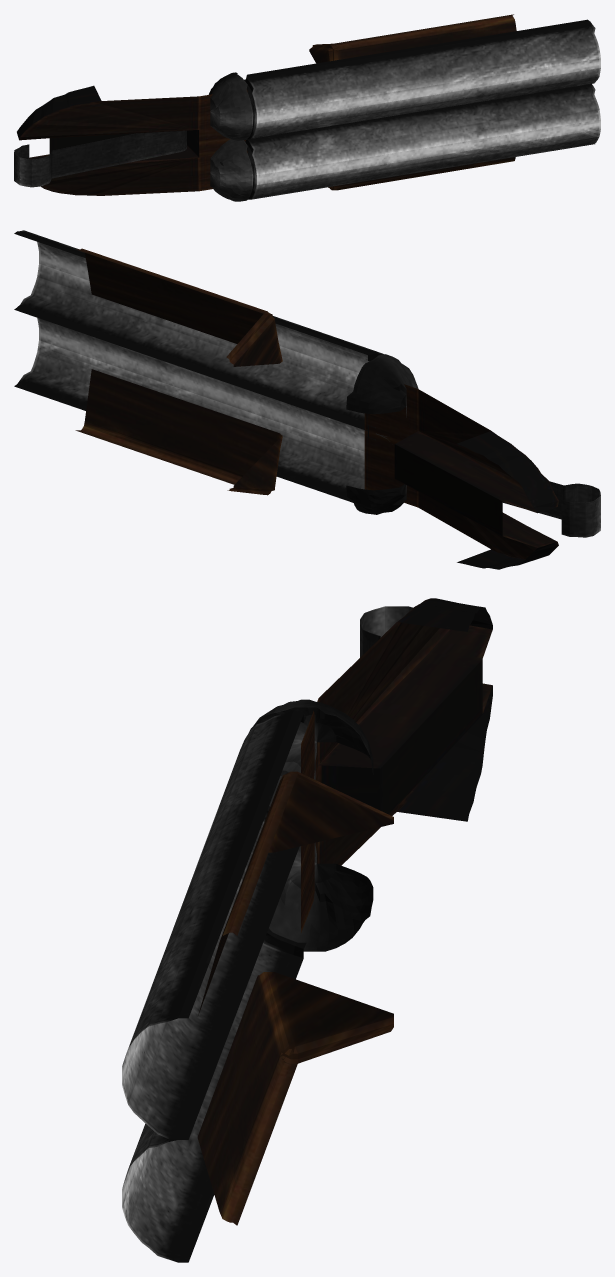
Rendered from v_shot2_3.obj.
The picture shows the model from 3 angles, top to bottom: view 1: azimuth 30°, elevation 25°; view 2: azimuth 150°, elevation 25°; view 3: azimuth 270°, elevation 25°; orthographic projection. The views are drawn at different scales.
Bounding box in the file's own units: 10.54 × 2.81 × 3.26.
Materials: 1 (1 with a texture image).
